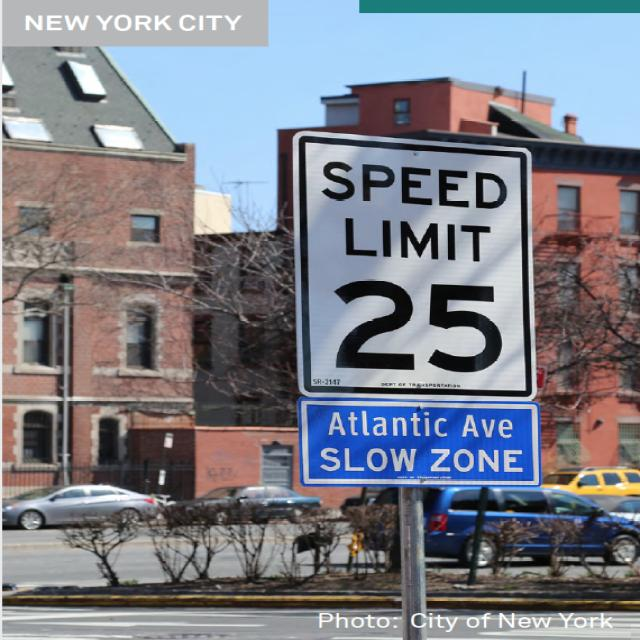Speed Limit Signs: (292, 130, 542, 401)
